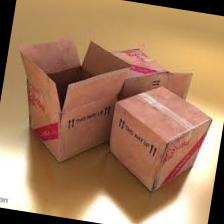Kertas: (2, 29, 134, 172), (104, 78, 218, 200), (101, 38, 198, 113)
